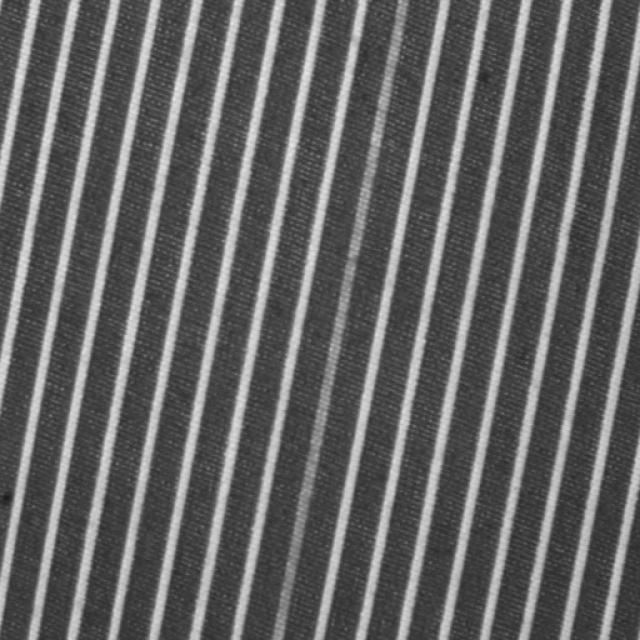Stain-Defect: (271, 0, 408, 639)
